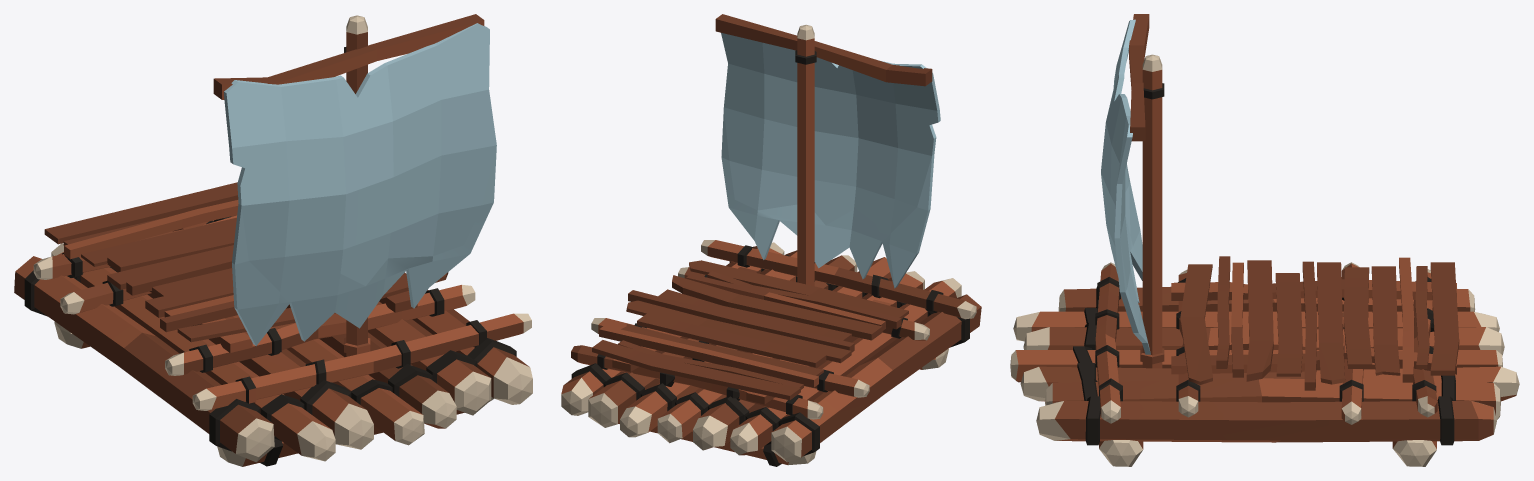
File: SM_Prop_Raft_01.fbx
3 views of the same model, side by side, from view 1: azimuth 30°, elevation 25°; view 2: azimuth 150°, elevation 25°; view 3: azimuth 270°, elevation 25° (orthographic). The views are drawn at different scales.
Parts seen in each view (by area): view 1: SM_Prop_Raft_01; view 2: SM_Prop_Raft_01; view 3: SM_Prop_Raft_01.
Boxes of the visible parts, <box> form: SM_Prop_Raft_01: <box>14,14,532,466</box>; SM_Prop_Raft_01: <box>561,14,981,466</box>; SM_Prop_Raft_01: <box>1010,14,1519,466</box>.
Bounding box in the file's own units: 3.65 × 4.16 × 5.22.
